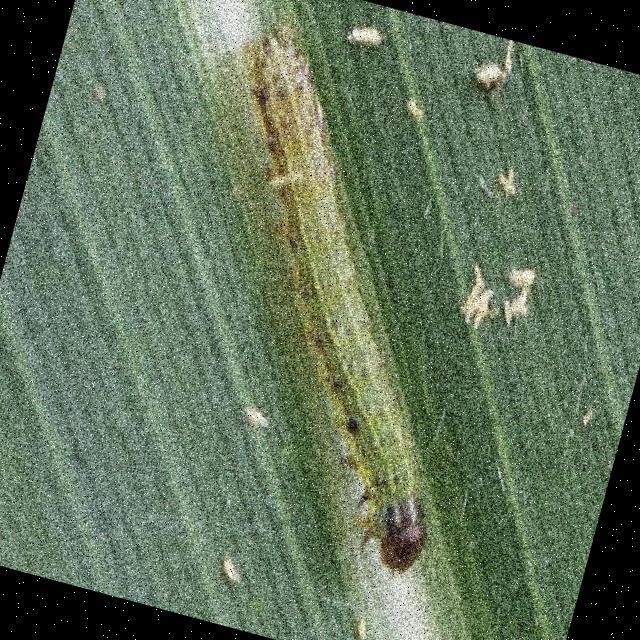worm: (115, 9, 550, 579), (370, 489, 439, 579)
